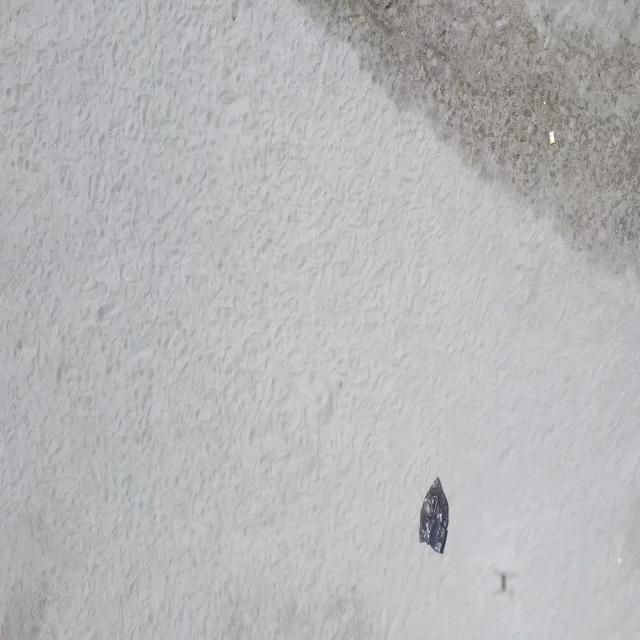Garbage: (419, 477, 447, 552), (548, 131, 553, 143)
